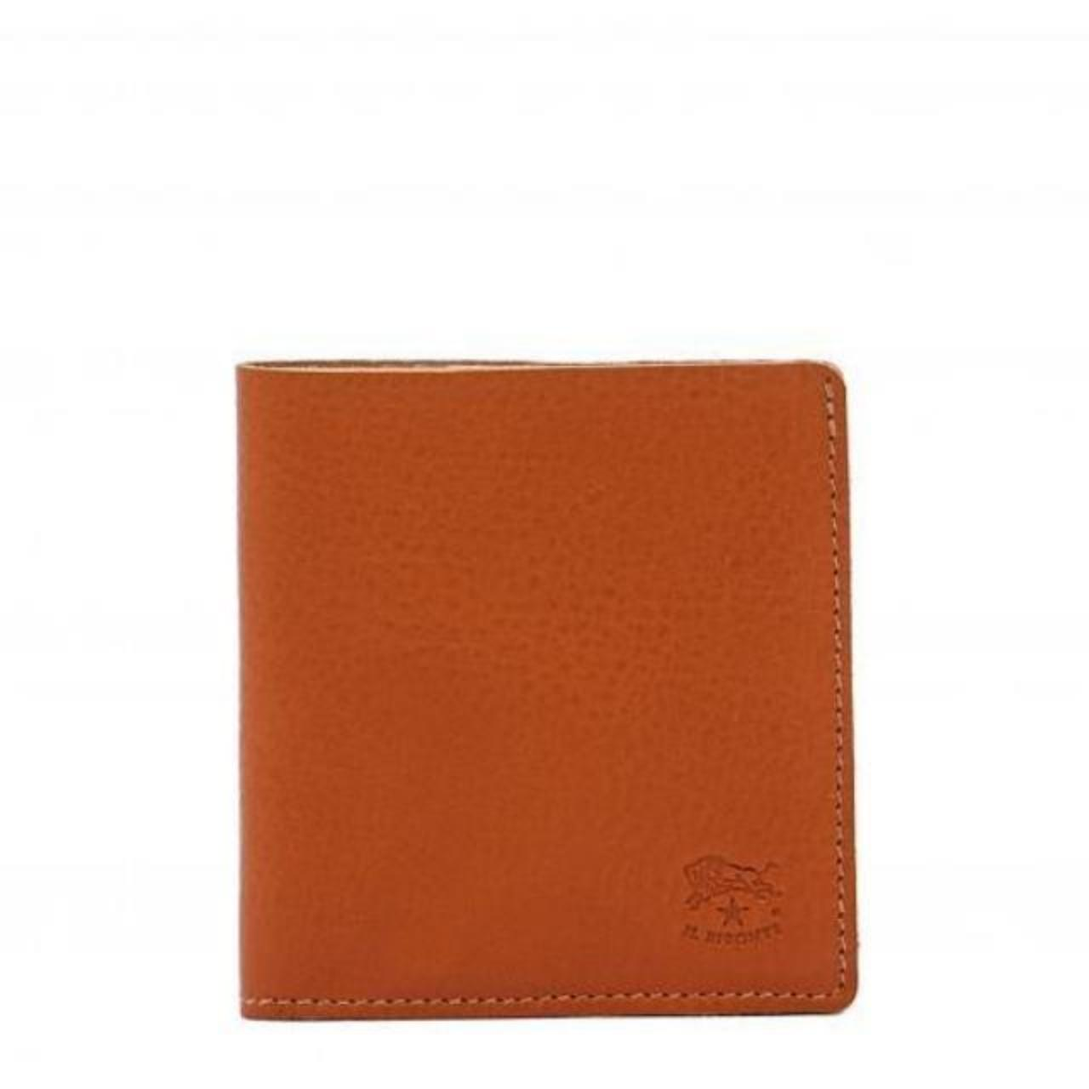wallet: (176, 340, 906, 1038)
